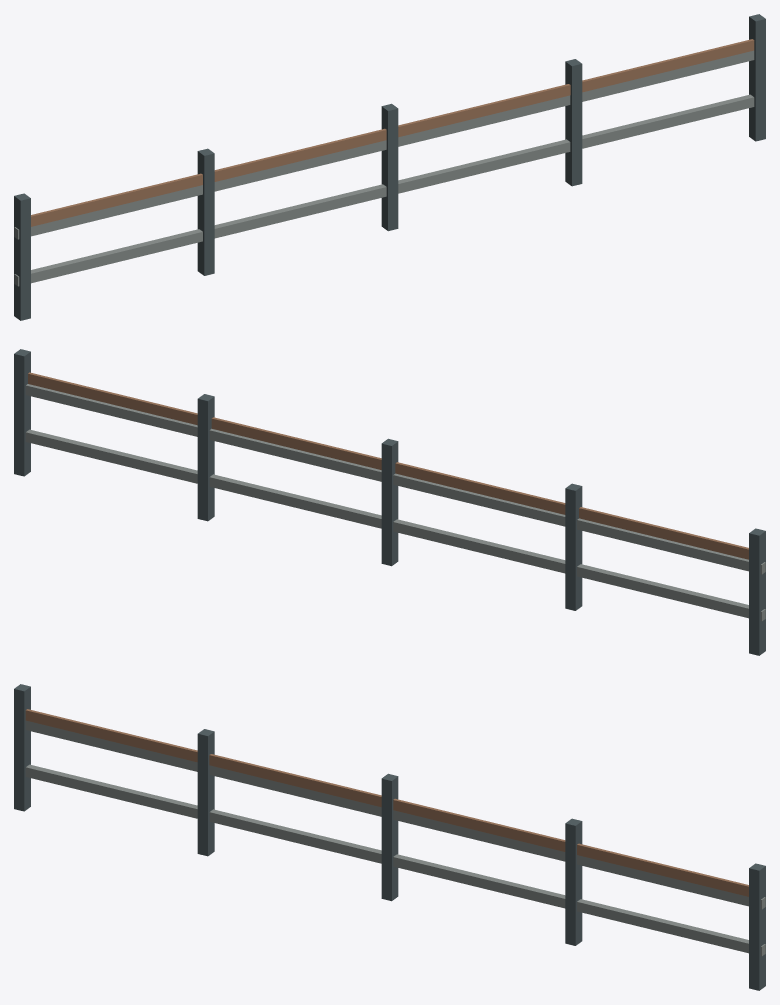
The model's file is avalanche-fence.glb.
The picture shows the model from 3 angles, top to bottom: view 1: azimuth 30°, elevation 25°; view 2: azimuth 150°, elevation 25°; view 3: azimuth 330°, elevation 25°; orthographic projection.
Visible parts, largest first — view 1: avalanche-fence; view 2: avalanche-fence; view 3: avalanche-fence.
Part boxes in pixels (x1,y1,x2,y2): avalanche-fence: (14,14,765,320); avalanche-fence: (14,349,765,655); avalanche-fence: (14,684,765,990).
Bounding box in the file's own units: 13.02 × 2 × 0.2.
